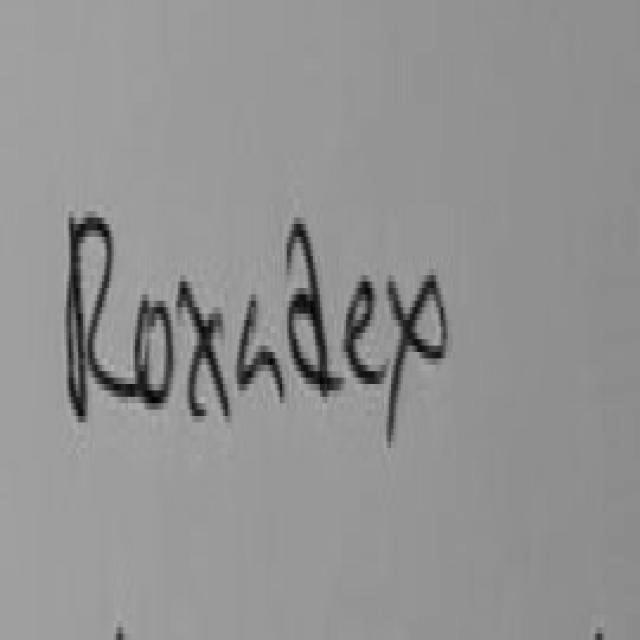R: (69, 218, 145, 419)
a: (237, 296, 287, 404)
d: (289, 224, 341, 394)
e: (344, 282, 385, 394)
o: (137, 298, 172, 410)
x: (386, 272, 445, 447), (178, 285, 231, 419)
